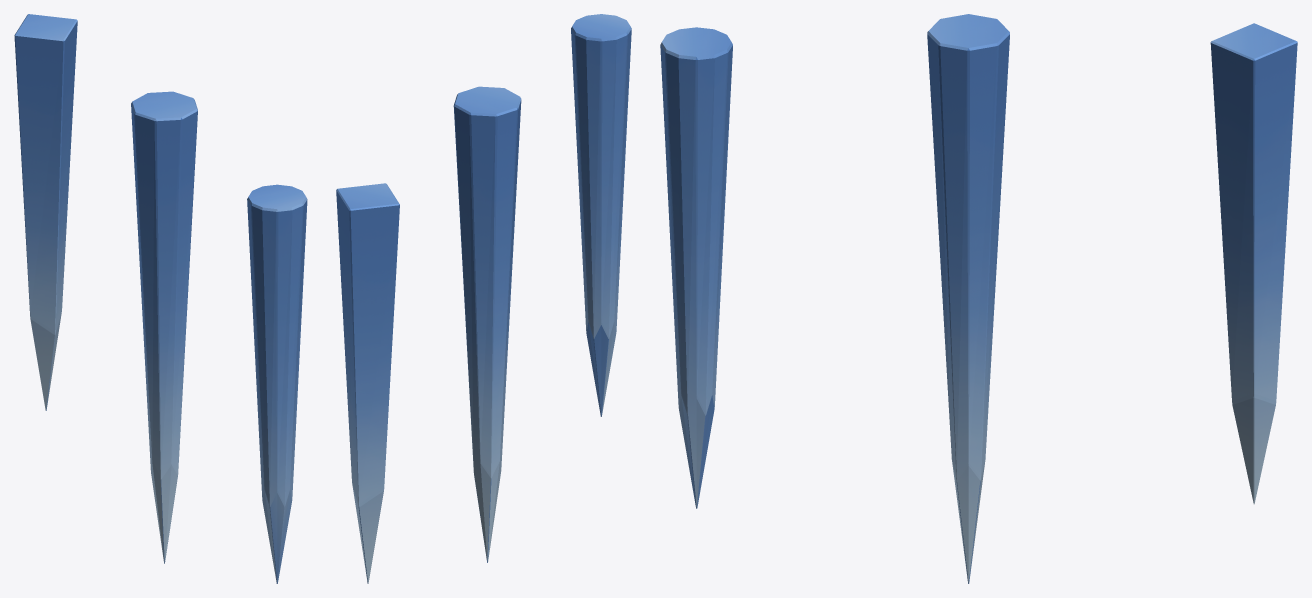
Rendered from icicle_R.fbx.
3 views of the same model, side by side, from view 1: azimuth 30°, elevation 25°; view 2: azimuth 150°, elevation 25°; view 3: azimuth 270°, elevation 25° (orthographic). The views are drawn at different scales.
Parts seen in each view (by area): view 1: icicle 8 R, icicle 4 R, icicle 12.001; view 2: icicle 8 R, icicle 4 R, icicle 12.001; view 3: icicle 8 R, icicle 4 R, icicle 12.001.
Boxes of the visible parts, box(x1,y1,x2,y2) form: icicle 8 R: box(131, 91, 197, 563); icicle 4 R: box(14, 14, 77, 410); icicle 12.001: box(247, 184, 307, 583); icicle 8 R: box(453, 86, 521, 562); icicle 4 R: box(336, 183, 399, 583); icicle 12.001: box(571, 14, 631, 416); icicle 8 R: box(927, 14, 1009, 583); icicle 4 R: box(1210, 23, 1297, 504); icicle 12.001: box(660, 27, 732, 508).
Size of the model in its own units: 70.58 by 495 by 517.
1 material, 1 textured.
